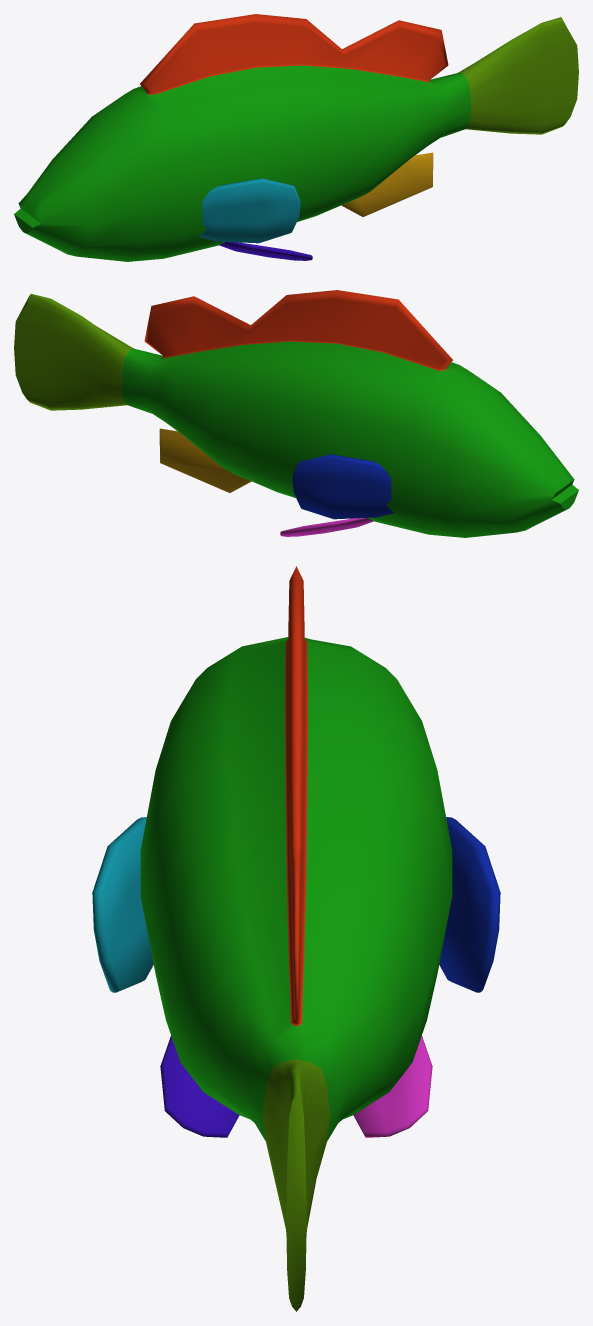
The model's file is Ureok.fbx.
The picture shows the model from 3 angles, top to bottom: view 1: azimuth 30°, elevation 25°; view 2: azimuth 150°, elevation 25°; view 3: azimuth 270°, elevation 25°; orthographic projection. The views are drawn at different scales.
Visible parts, largest first — view 1: Uruck; view 2: Uruck; view 3: Uruck.
Boxes of the visible parts, left/top/right/bottom form: Uruck: left=14, top=14, right=578, bottom=261; Uruck: left=14, top=290, right=578, bottom=537; Uruck: left=92, top=566, right=500, bottom=1311.
Size of the model in its own units: 7.23 by 3.06 by 2.31.
